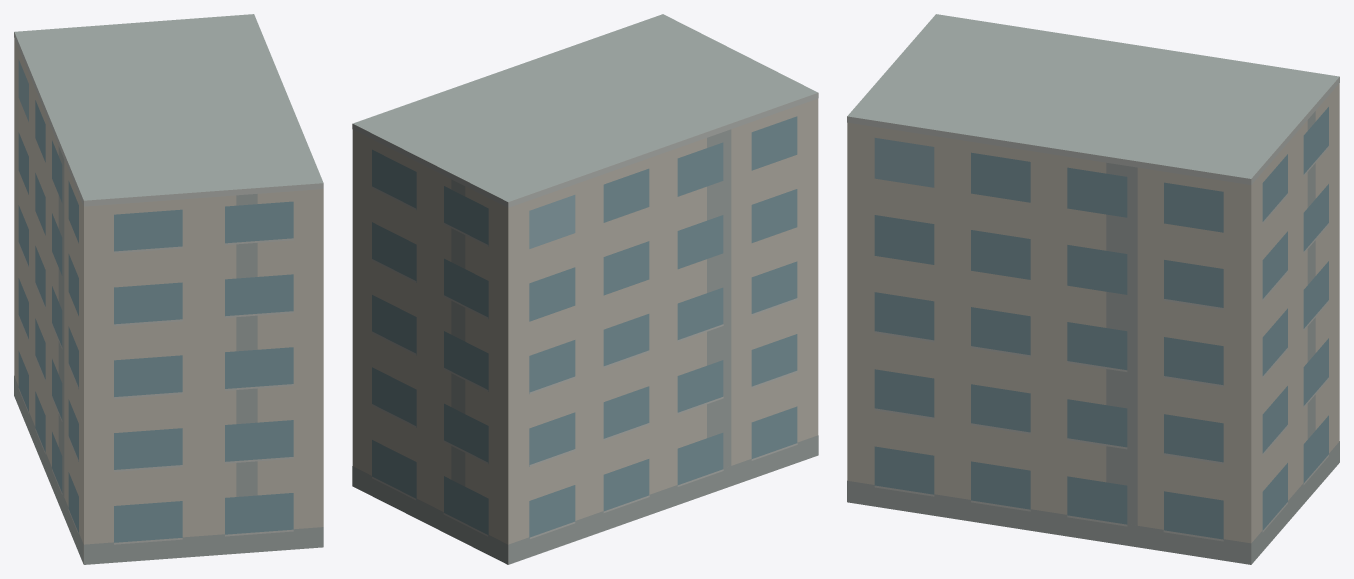
The model's file is residential-5950ff84-01b2-40bb-8a18-b2fbc9ae8404.glb.
3 views of the same model, side by side, from view 1: azimuth 30°, elevation 25°; view 2: azimuth 150°, elevation 25°; view 3: azimuth 270°, elevation 25° (orthographic). The views are drawn at different scales.
Parts seen in each view (by area): view 1: residential-5950ff84-01b2-40bb-8a18-b2fbc9ae8404.tmp; view 2: residential-5950ff84-01b2-40bb-8a18-b2fbc9ae8404.tmp; view 3: residential-5950ff84-01b2-40bb-8a18-b2fbc9ae8404.tmp.
Boxes of the visible parts, box(x1,y1,x2,y2) form: residential-5950ff84-01b2-40bb-8a18-b2fbc9ae8404.tmp: box(14, 14, 323, 564); residential-5950ff84-01b2-40bb-8a18-b2fbc9ae8404.tmp: box(352, 14, 818, 564); residential-5950ff84-01b2-40bb-8a18-b2fbc9ae8404.tmp: box(847, 14, 1339, 564).
Bounding box in the file's own units: 13.99 × 15.25 × 17.66.
